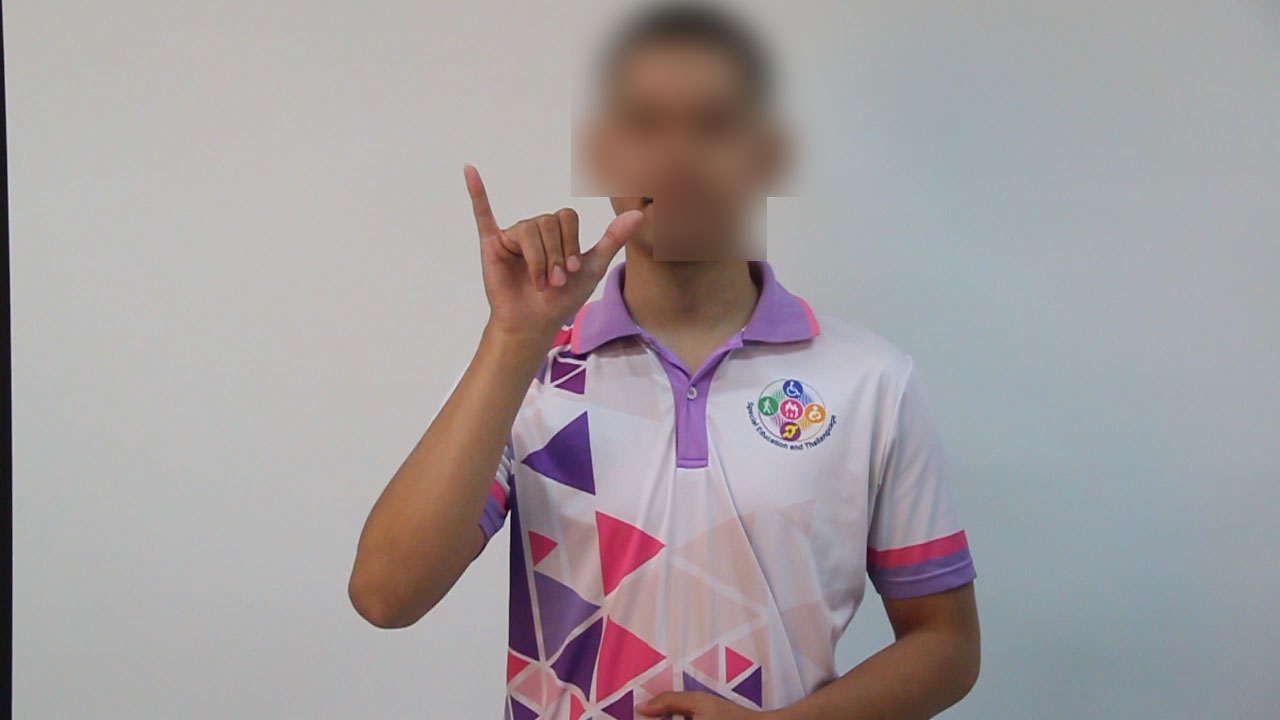yor: (451, 158, 652, 356)
